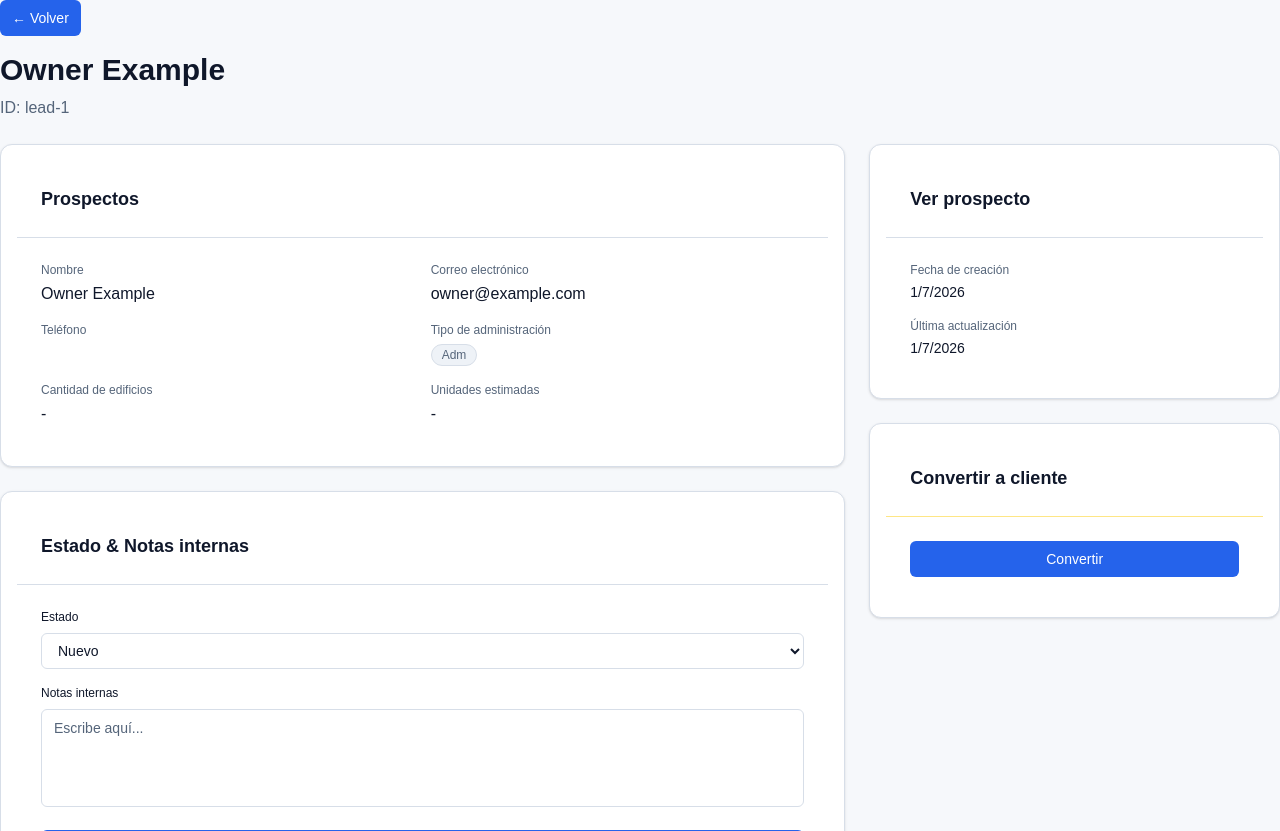
it: LeadDetailPage › sends the selected persisted plan id when converting a lead
This screenshot has width=1280, height=831.
Expected: the heading "Owner Example" is shown, [0,53,225,86]
Click the button "Convertir" at [1075, 559], box [910,541,1239,577]
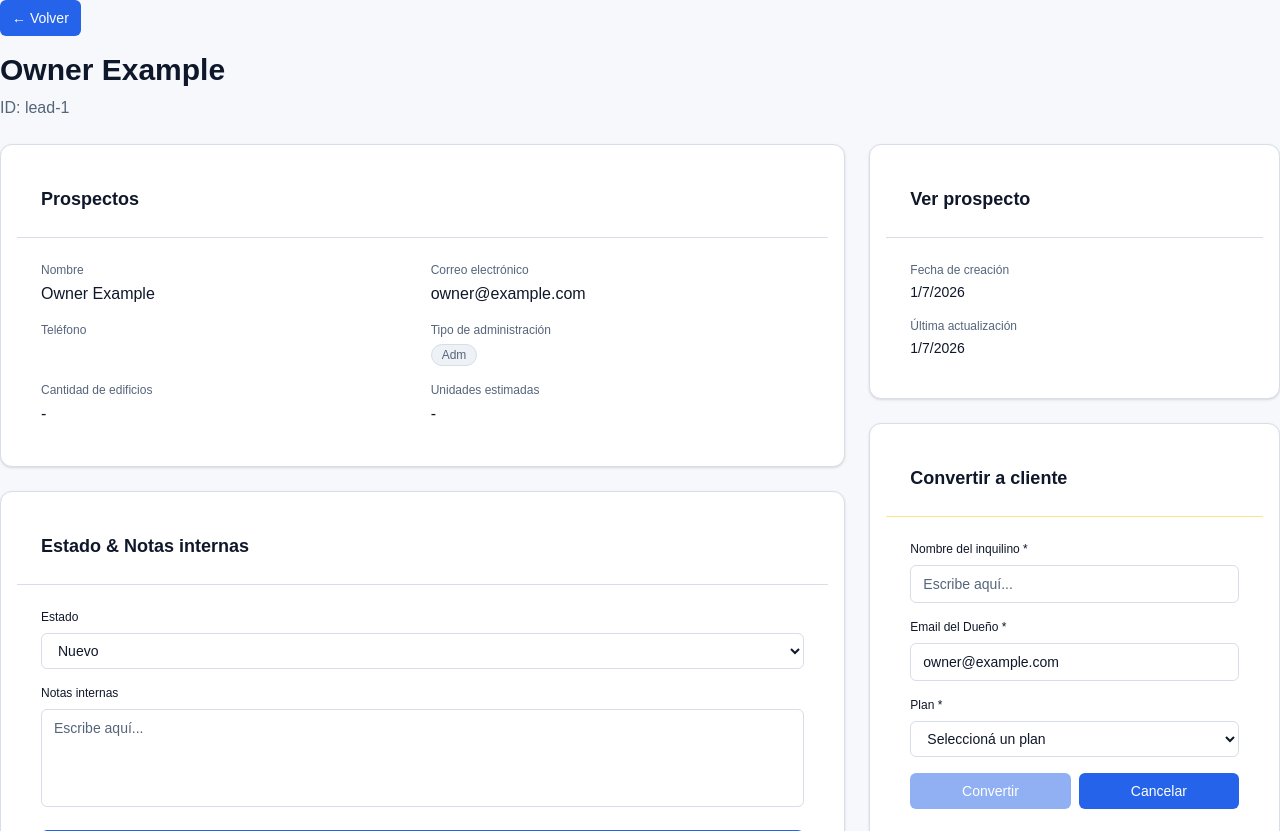
Type "Example Building" into the field labelled "Nombre del inquilino *" at [1075, 584], box [910,565,1239,603]
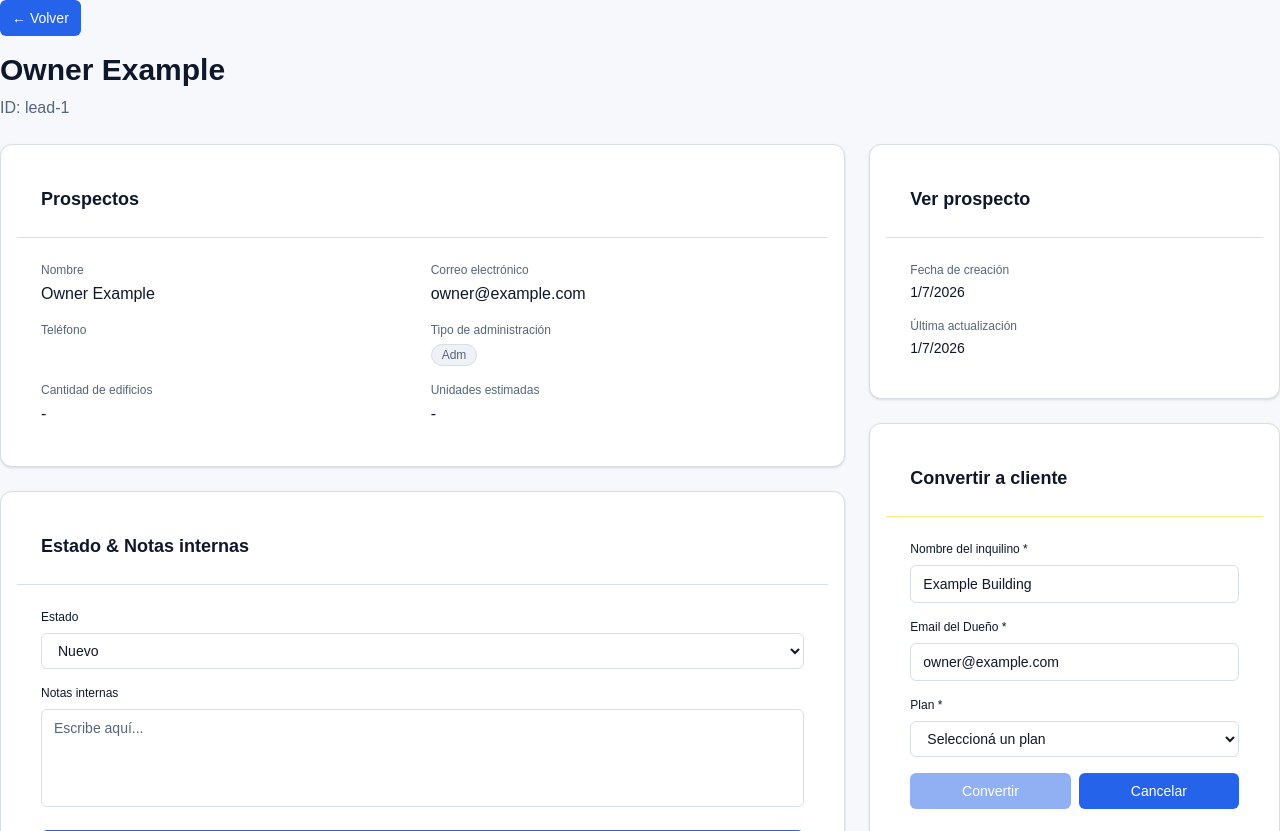
Select "Professional (PRO)" in the dropdown labelled "Plan *" at [1075, 739], box [910,721,1239,757]
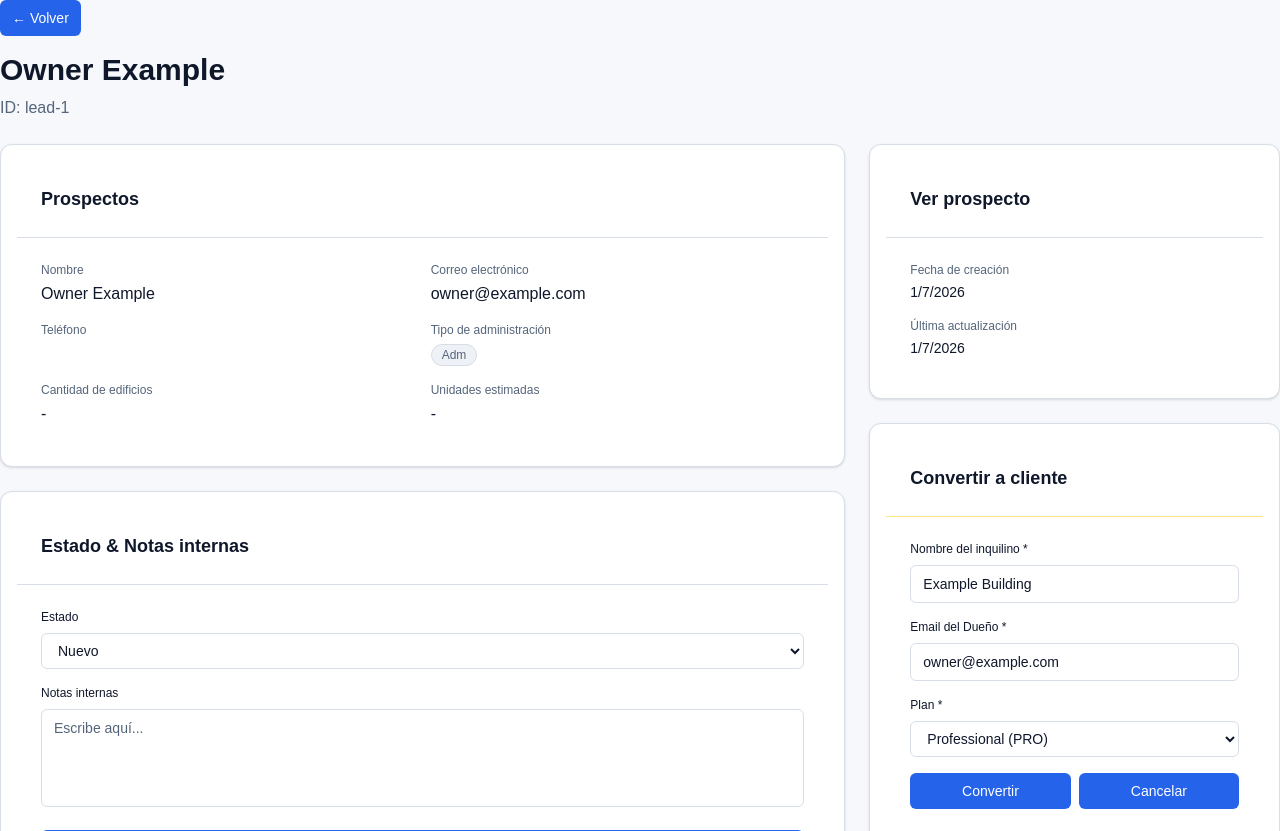
Click the button "Convertir" at [990, 791], box [910,773,1071,809]
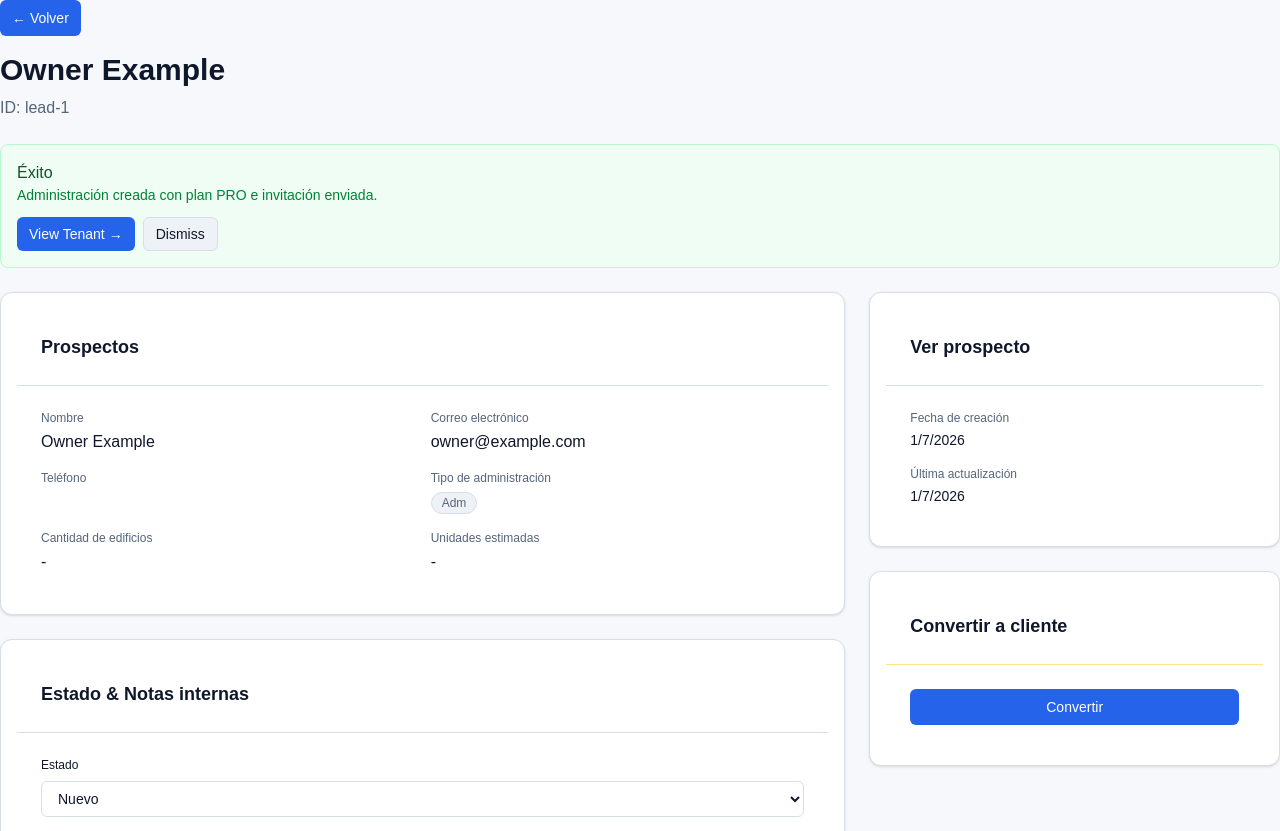
Now the text "Administración creada con plan PRO e invitación enviada." is shown, box [17,187,377,203]
